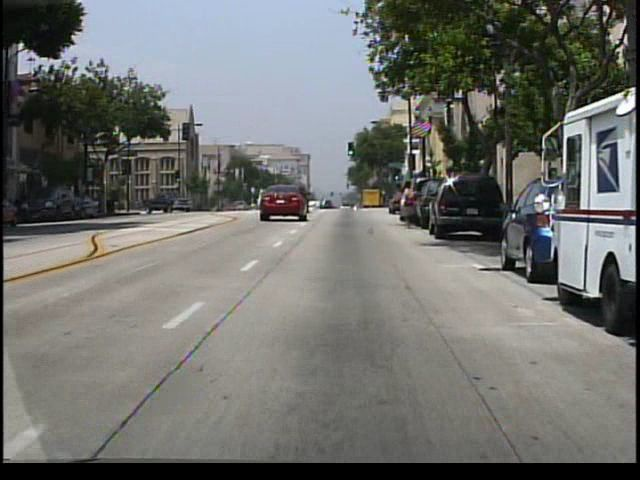person: (394, 180, 419, 231)
